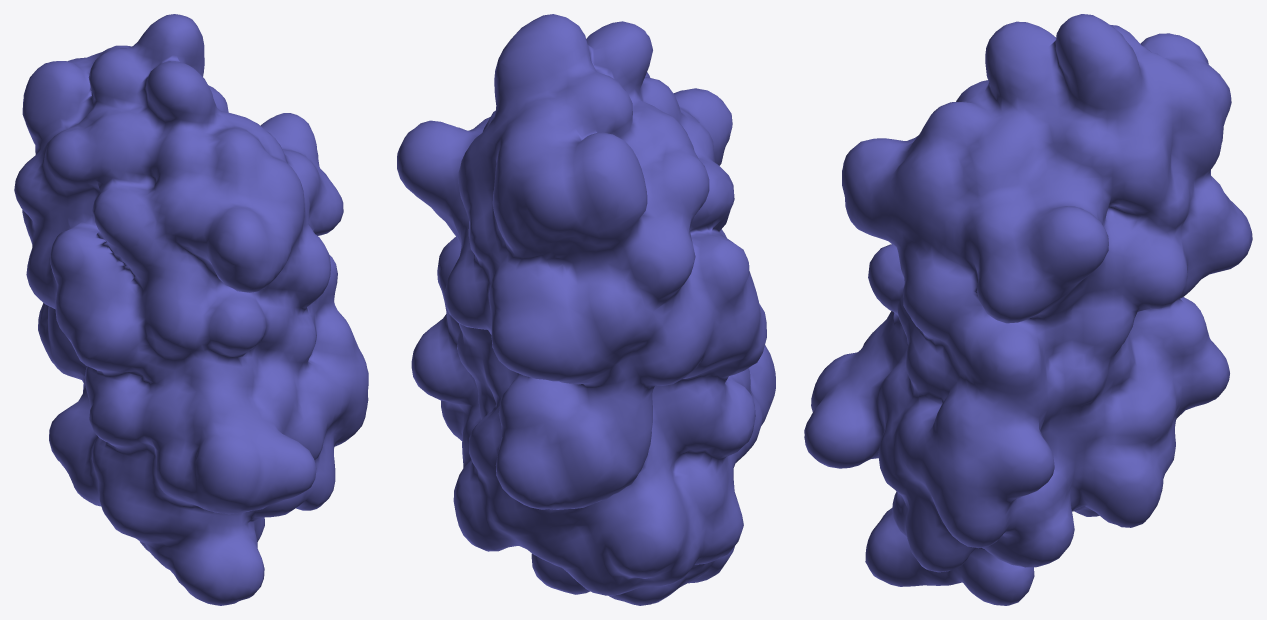
The model's file is amphipathic_beta_sheet.glb.
3 renders of one model, left to right at view 1: azimuth 30°, elevation 25°; view 2: azimuth 150°, elevation 25°; view 3: azimuth 270°, elevation 25°, orthographic. The views are drawn at different scales.
Parts seen in each view (by area): view 1: frame_0; view 2: frame_0; view 3: frame_0.
Boxes of the visible parts, x1=… form: frame_0: x1=14, y1=14, x2=368, y2=605; frame_0: x1=397, y1=14, x2=775, y2=605; frame_0: x1=804, y1=14, x2=1252, y2=605.
Bounding box in the file's own units: 1.63 × 2.85 × 1.99.
